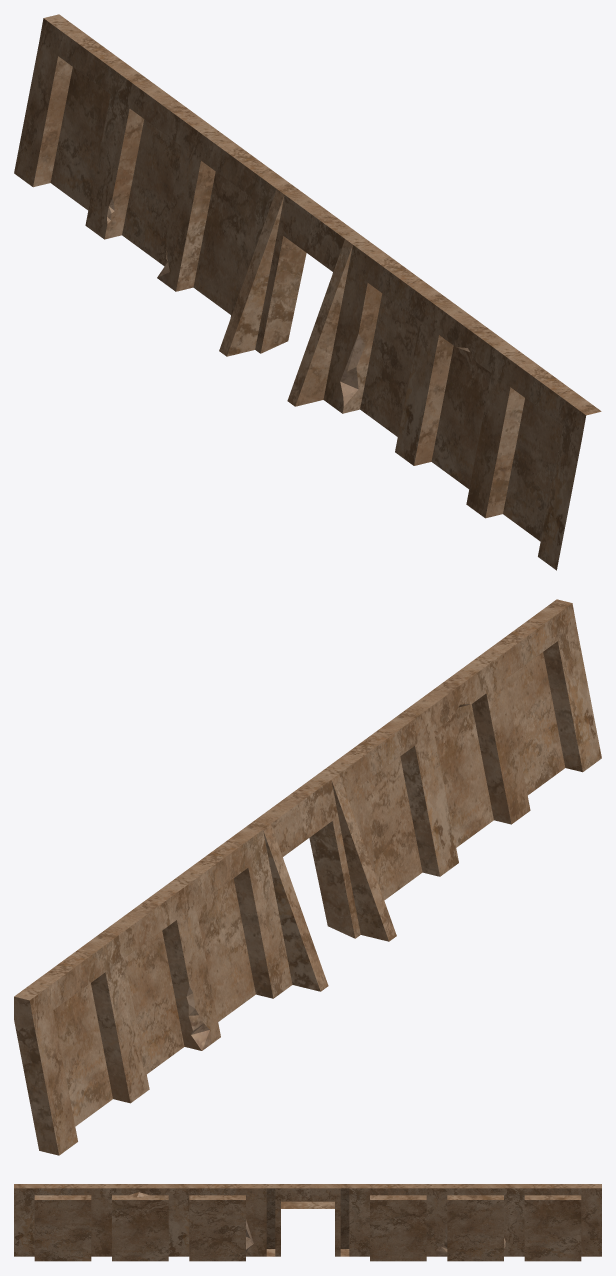
The model's file is TempleExterior.fbx.
3 views of the same model, one above another, from view 1: azimuth 30°, elevation 25°; view 2: azimuth 150°, elevation 25°; view 3: azimuth 270°, elevation 25° (orthographic). The views are drawn at different scales.
Parts seen in each view (by area): view 1: Entrance.001, Entrance; view 2: Entrance.001, Entrance; view 3: Entrance.001, Entrance.
Part boxes in pixels (left/top/right/bottom): Entrance.001: left=14, top=14, right=601, bottom=570; Entrance: left=107, top=198, right=469, bottom=406; Entrance.001: left=14, top=599, right=601, bottom=1155; Entrance: left=186, top=704, right=469, bottom=1050; Entrance.001: left=14, top=1184, right=601, bottom=1261; Entrance: left=128, top=1192, right=505, bottom=1256.
Size of the model in its own units: 625 by 1115 by 7411.
